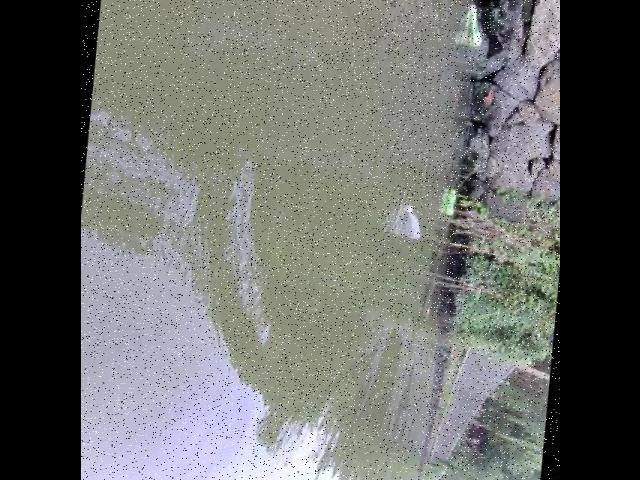Bottle: (398, 197, 422, 248), (462, 1, 482, 52), (442, 184, 458, 222)
